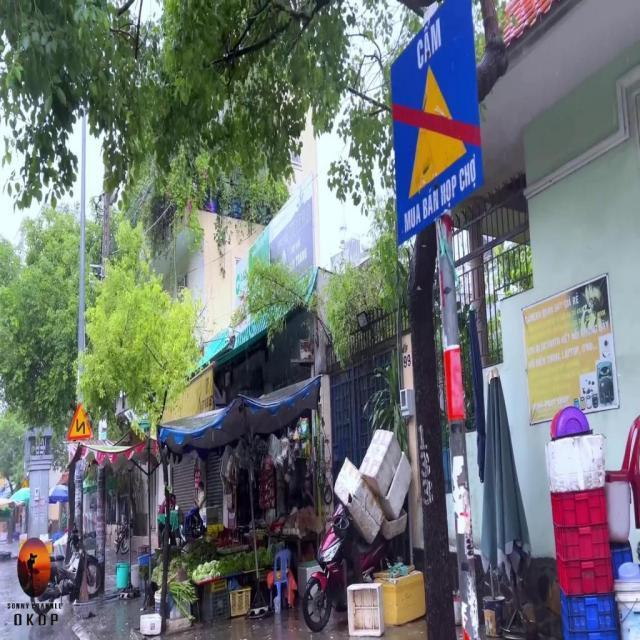201-cho-ngoat-nguy-hiem: (66, 402, 94, 440)
